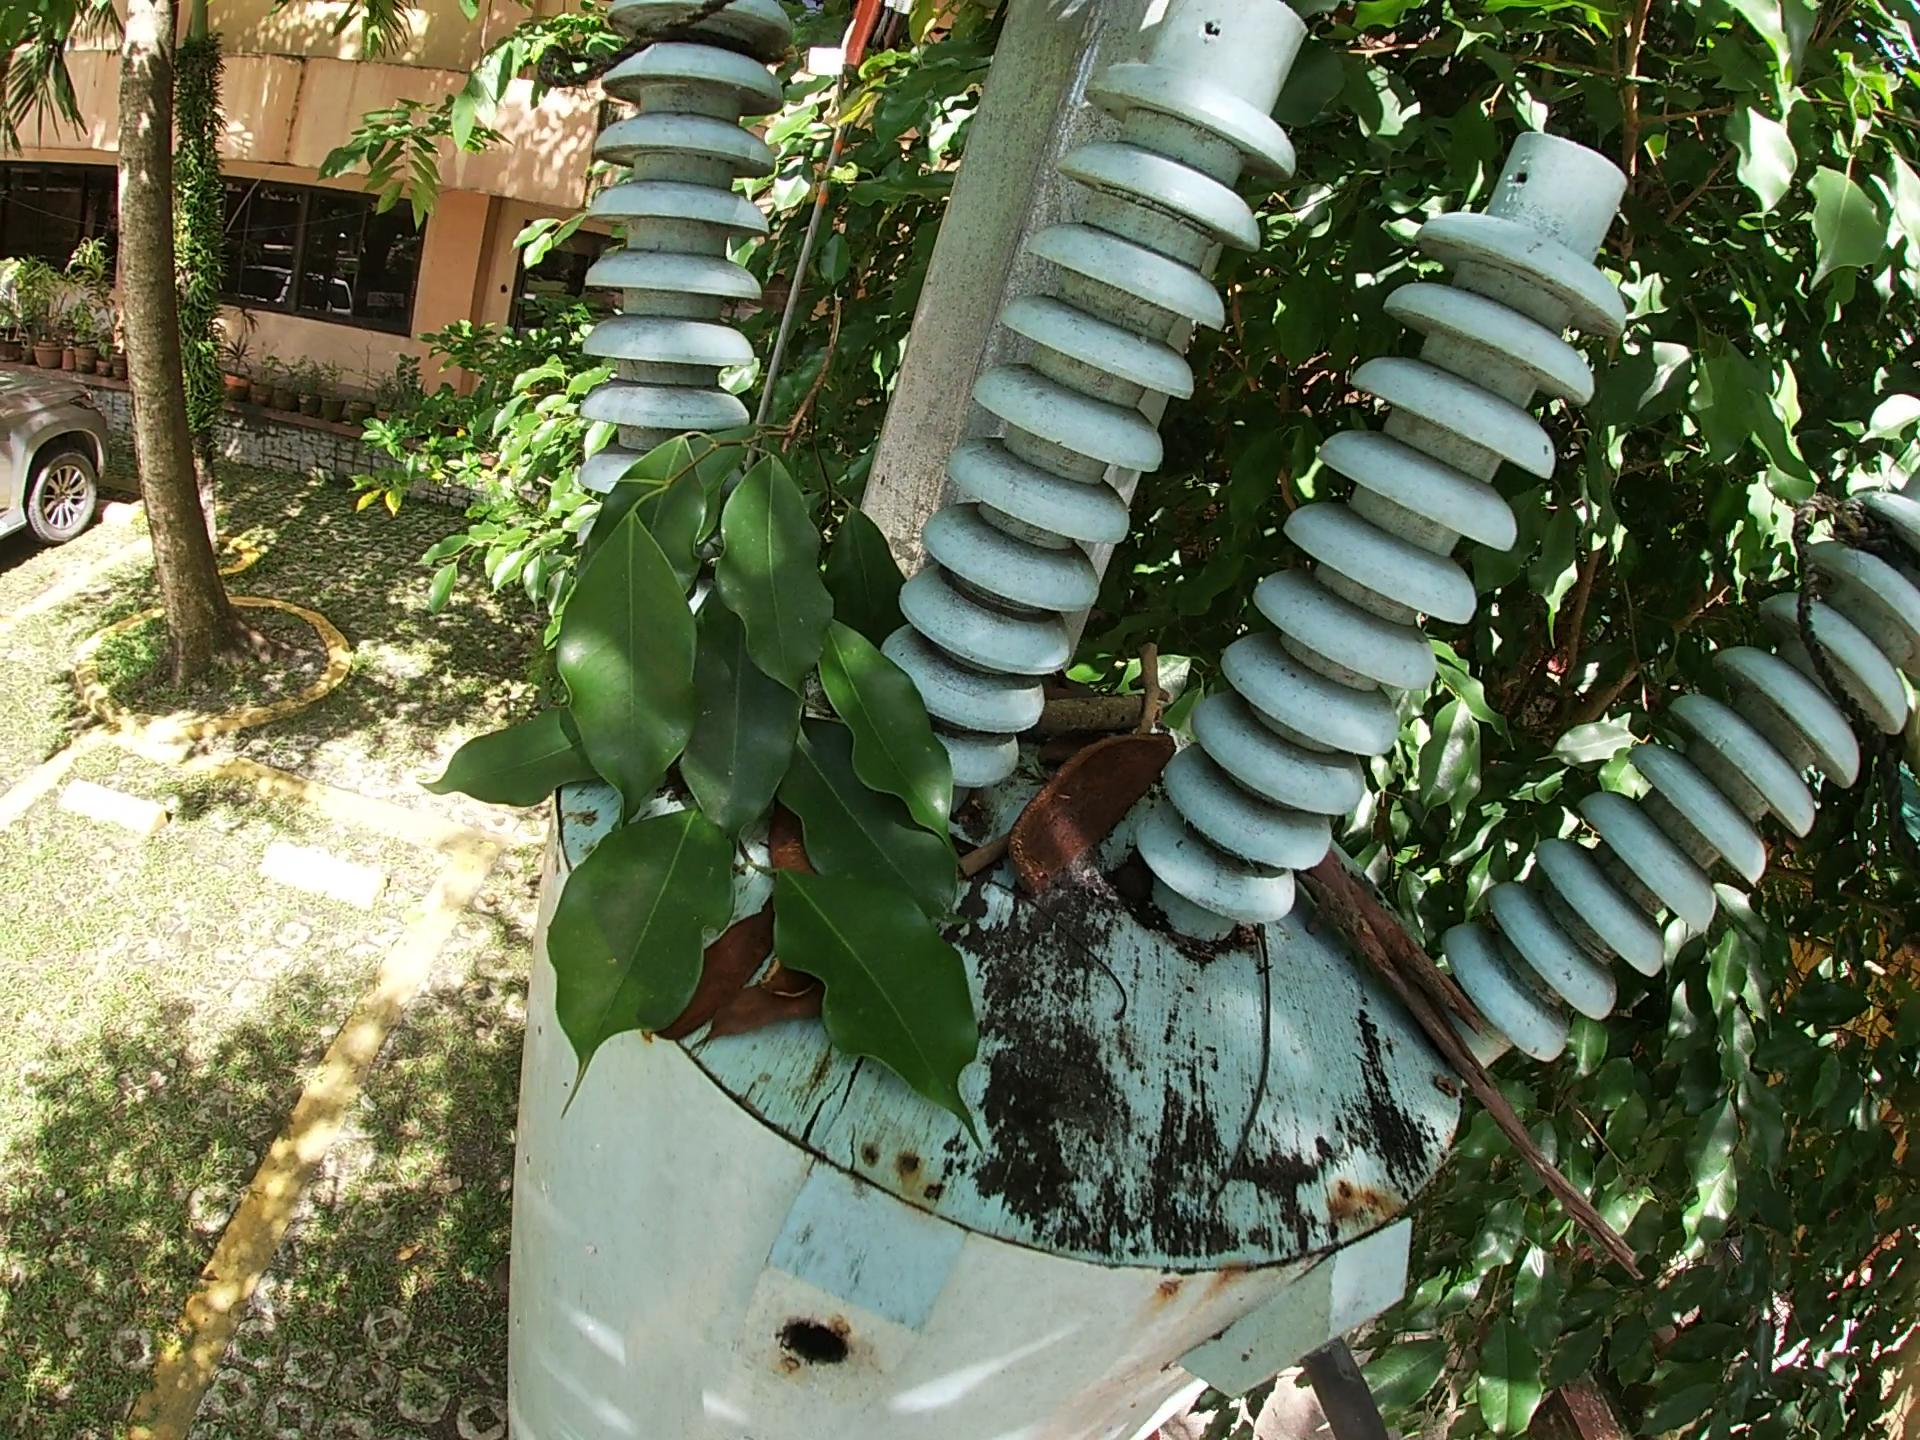branch with leaves: (410, 280, 1014, 1150)
mahogany fruit: (1011, 729, 1176, 892), (646, 906, 830, 1051), (753, 796, 809, 870)
tree branch: (1299, 812, 1663, 1289), (980, 871, 1150, 1035), (1209, 921, 1282, 1216), (1027, 688, 1167, 722), (1126, 629, 1163, 725), (943, 846, 1019, 867)
